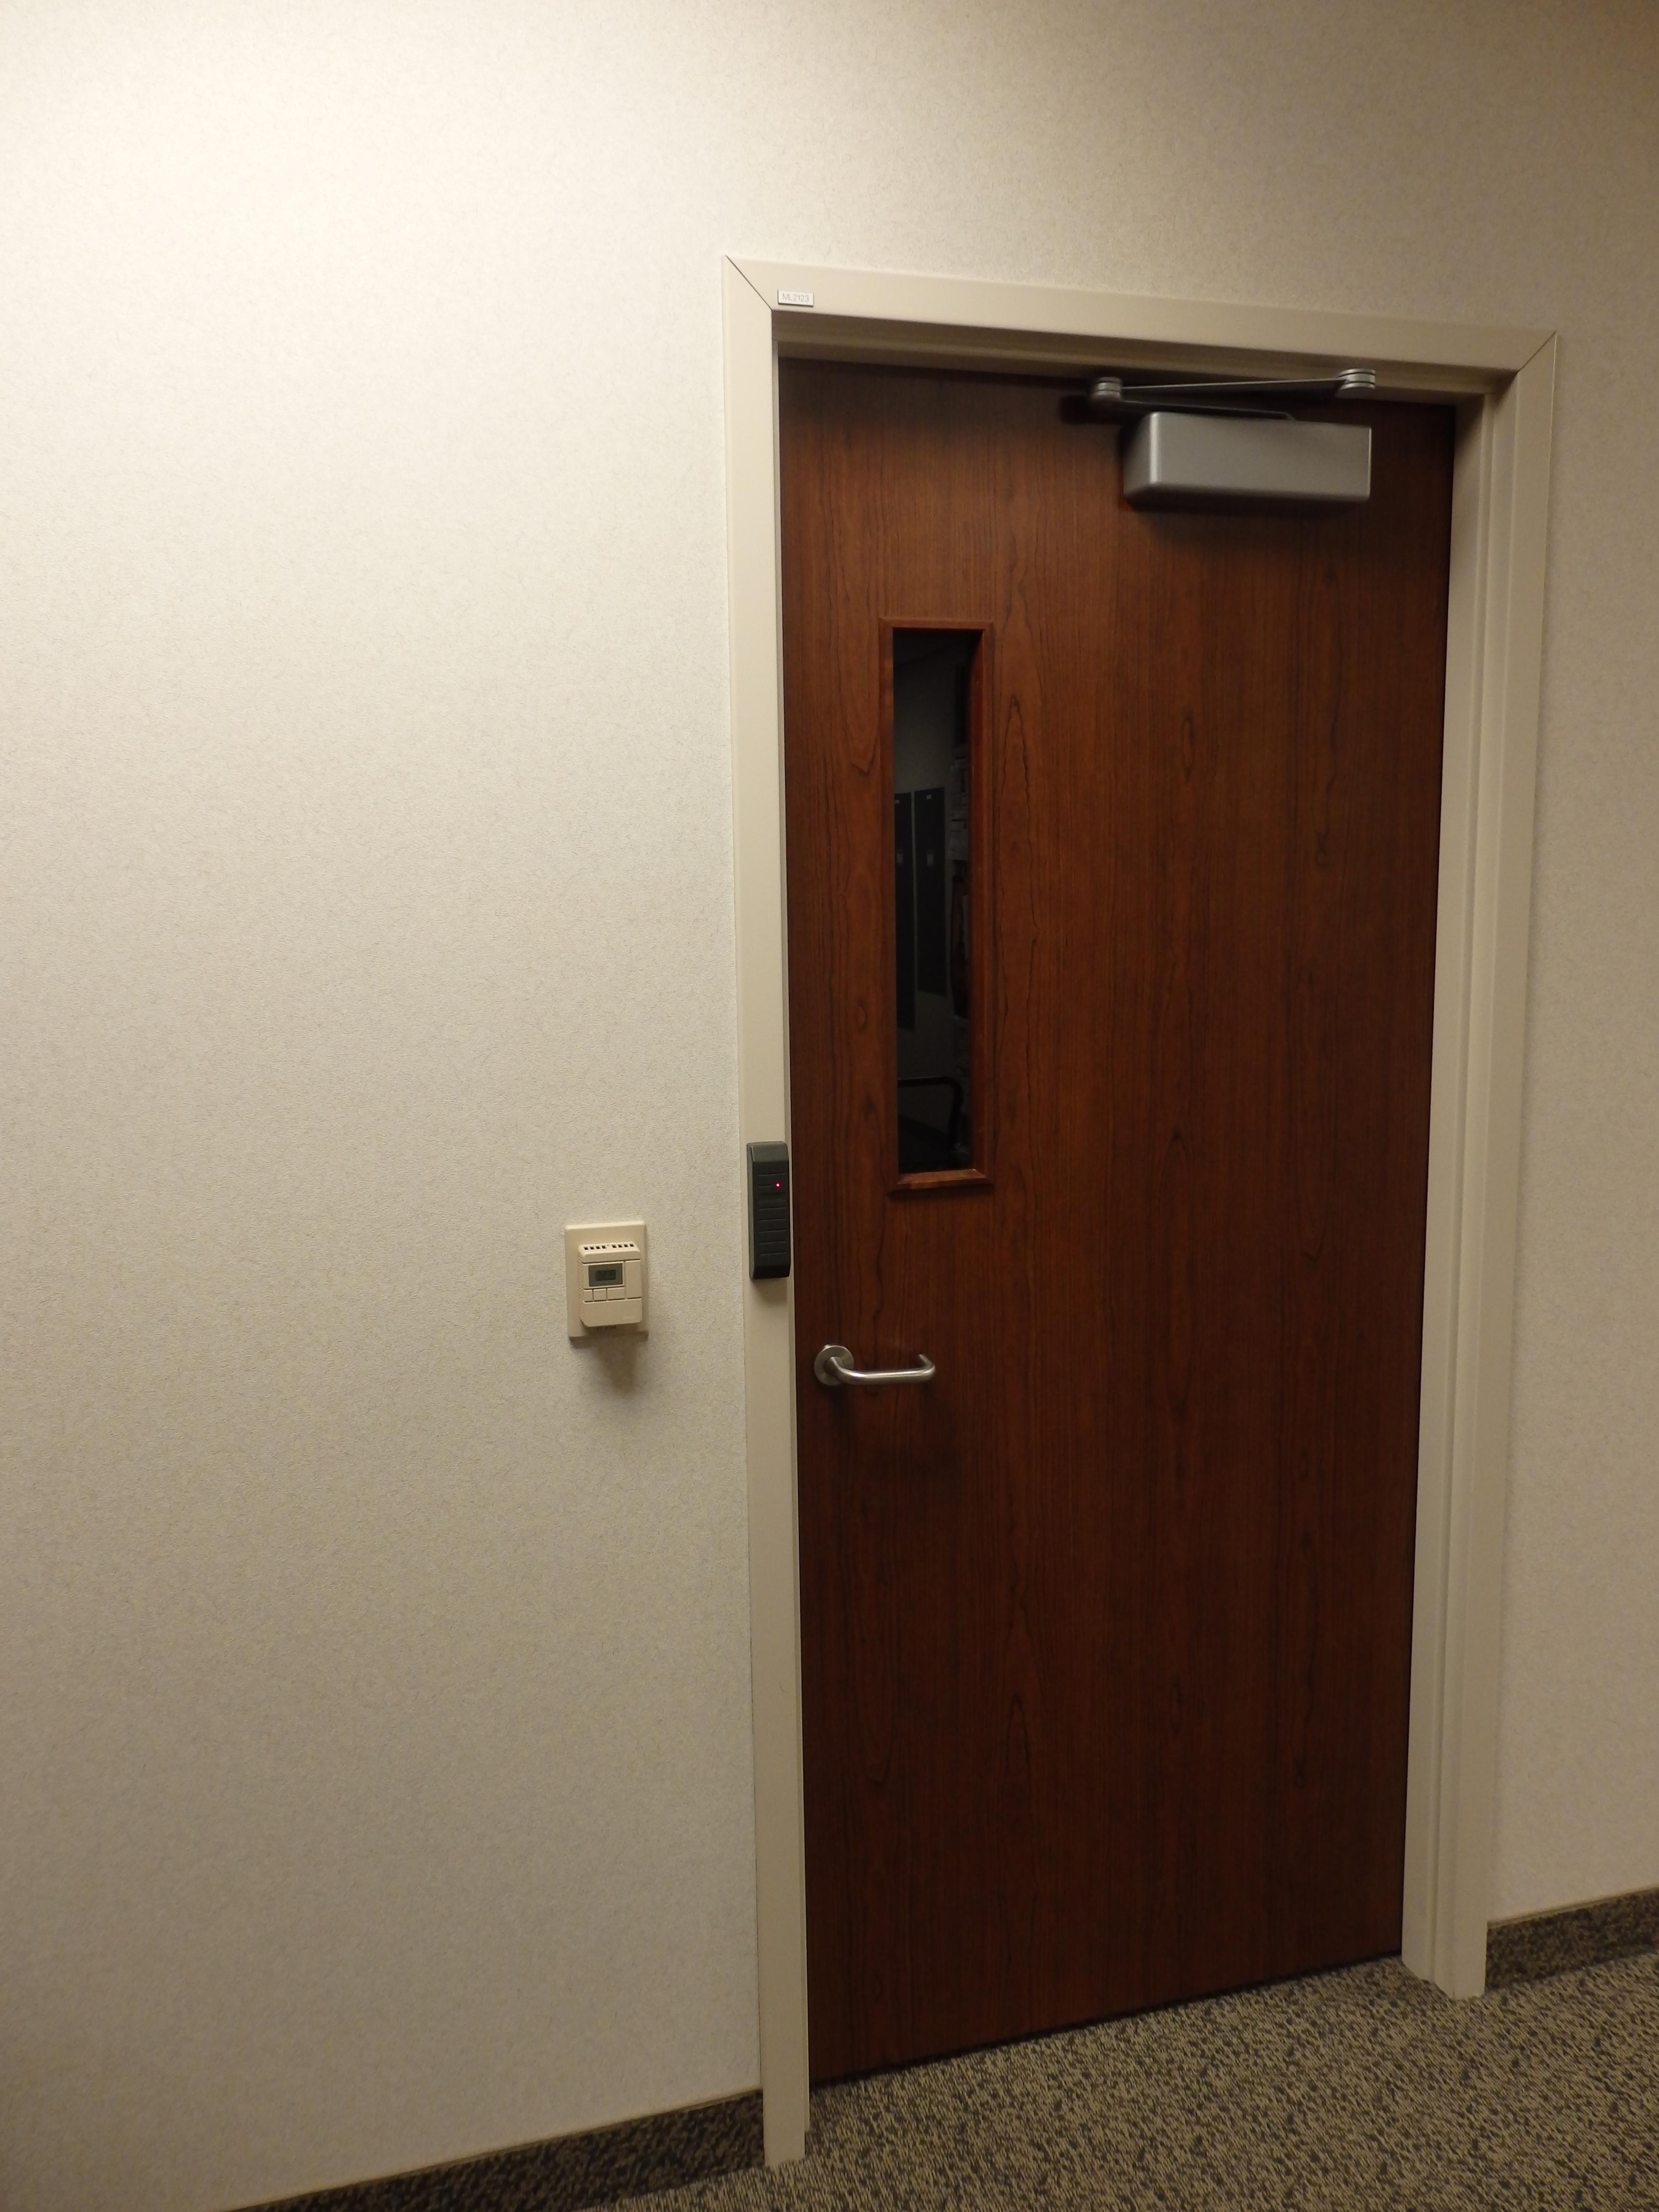door: (770, 303, 1441, 2081)
